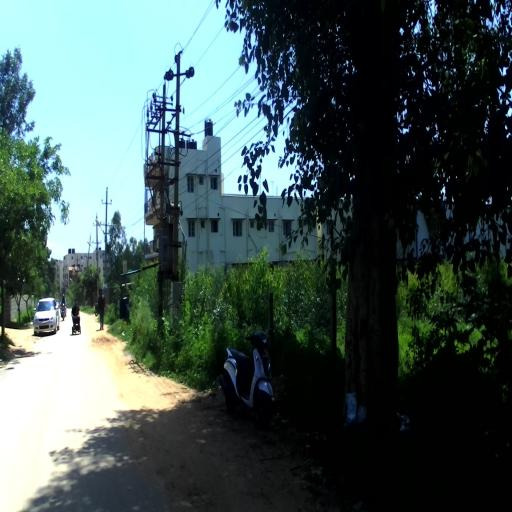street_light_0: (95, 218, 108, 244), (86, 240, 99, 261)
